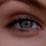eye: (20, 20, 33, 29)
